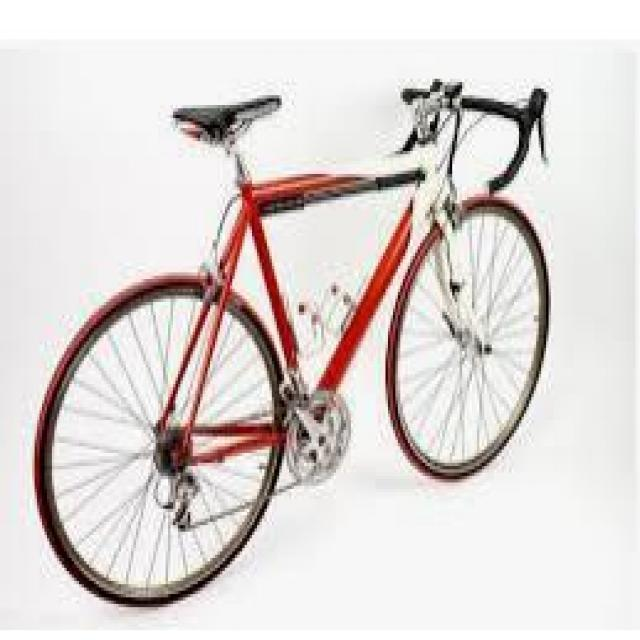bicycle: (55, 70, 552, 605)
